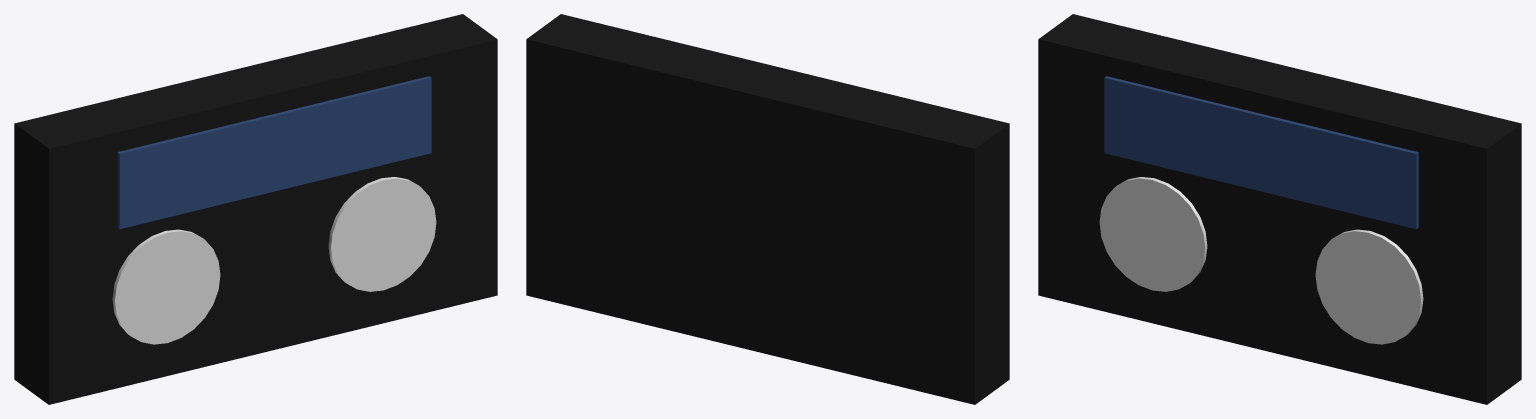
Rendered from vhs-1.glb.
The picture shows the model from 3 angles, left to right: view 1: azimuth 30°, elevation 25°; view 2: azimuth 150°, elevation 25°; view 3: azimuth 330°, elevation 25°; orthographic projection.
Size of the model in its own units: 0.187 by 0.102 by 0.0267.
